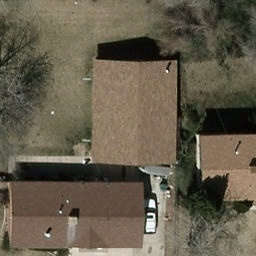car: (143, 201, 158, 236)
